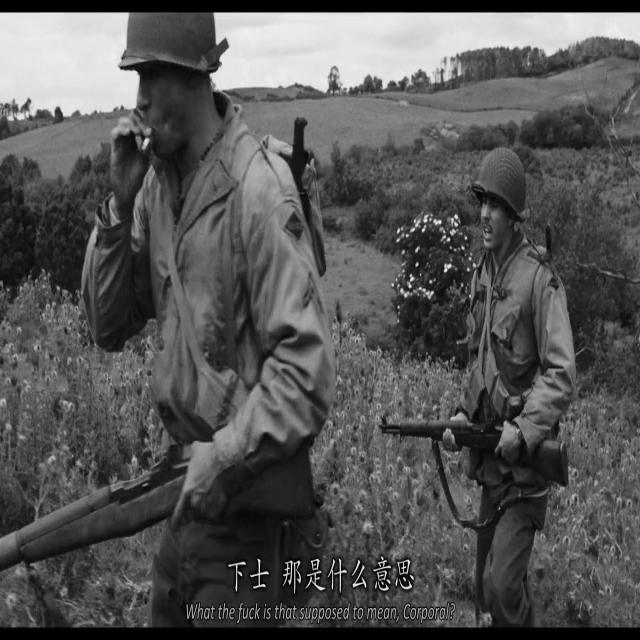Short-Gun: (0, 413, 339, 640), (329, 310, 598, 580)
